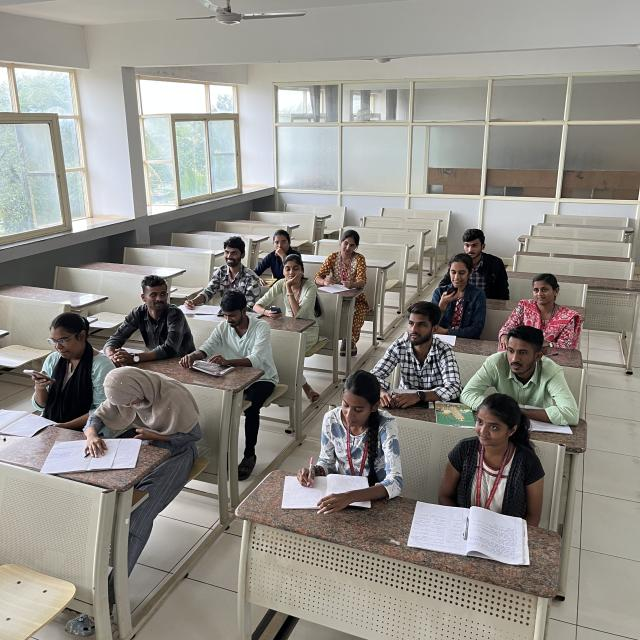Using Phone: (23, 308, 99, 414), (97, 364, 196, 442), (255, 255, 312, 318), (432, 254, 478, 327)
Writing: (283, 371, 394, 497), (184, 236, 254, 316), (319, 232, 365, 292)
